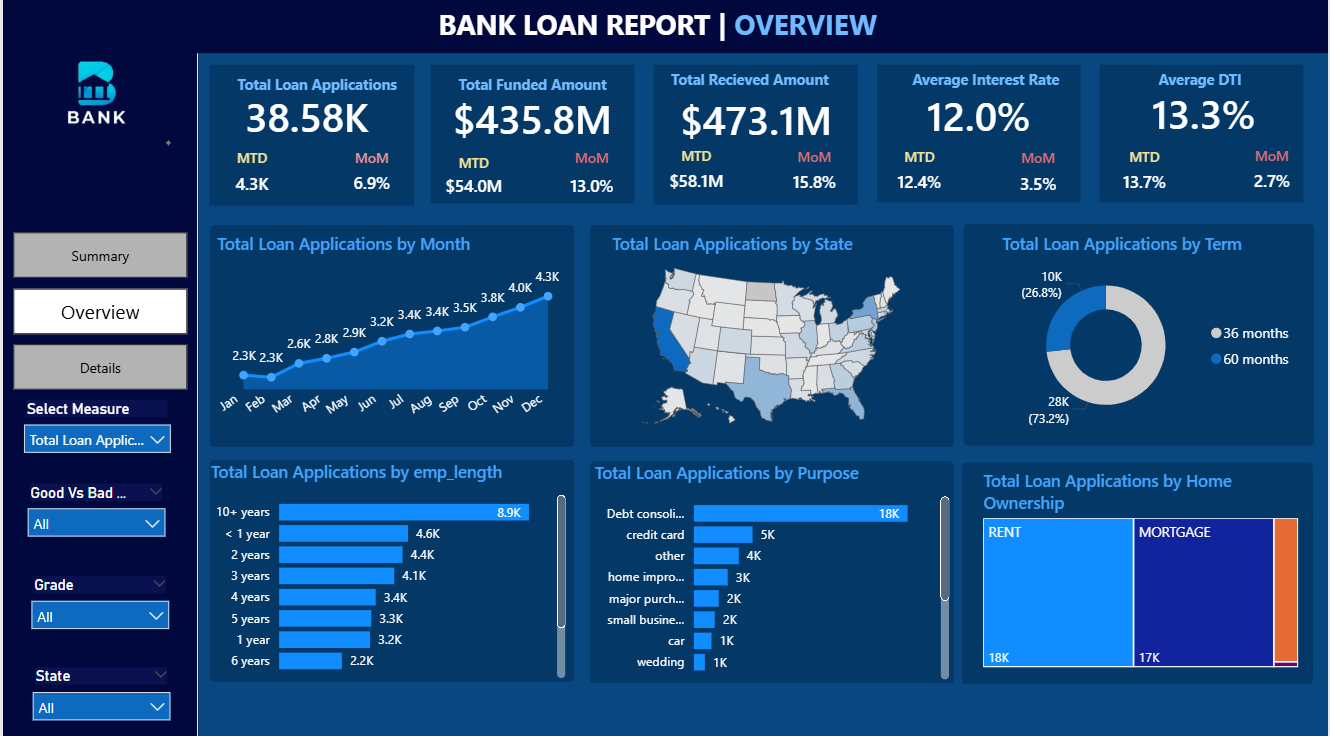

What the dashboard file says about the page in this screenshot:
{"tool":"powerbi","page":{"name":"Overview","canvas":[1280,720],"ordinal":1},"visuals":[{"type":"shape","box":[0,0,189.4,720.2],"z":0},{"type":"shape","box":[126.6,0,1153.4,55.5],"z":1000},{"type":"textbox","box":[415.8,4.1,447.3,46.7],"z":2000},{"type":"shape","box":[200.3,66.4,197.9,136.3],"z":3000},{"type":"card","fields":{"Values":["All Measures.Total Loan Applications"]},"box":[209.4,88.6,168.9,56.7],"z":4000},{"type":"textbox","box":[221.5,71.7,174.9,39.8],"z":5000},{"type":"card","title":"MTD","fields":{"Values":["All Measures.MTD Loan Application"]},"box":[200,147.6,82.3,54.9],"z":6000},{"type":"card","title":"MoM","fields":{"Values":["All Measures.MoM Loan Application"]},"box":[315.6,147.7,82,53.1],"z":7000},{"type":"shape","box":[413.8,66.4,196.6,133.9],"z":8000},{"type":"card","fields":{"Values":["All Measures.Total Funded Amount"]},"box":[415.7,91,191.8,55.5],"z":9000},{"type":"textbox","box":[435,71.7,174.9,39.8],"z":10000},{"type":"card","title":"MoM","fields":{"Values":["All Measures.MoM Funded Amount"]},"box":[527.9,147.7,82,57.9],"z":11000},{"type":"card","title":"MTD","fields":{"Values":["All Measures.MTD Funded Amount"]},"box":[413.3,152.5,83.2,48.3],"z":12000},{"type":"shape","box":[628.3,65.9,197.9,135.1],"z":13000},{"type":"card","fields":{"Values":["All Measures.Total Recieved Amount"]},"box":[631.9,90,191.8,56.7],"z":14000},{"type":"textbox","box":[640.4,65.9,174.9,39.8],"z":15000},{"type":"card","title":"MoM","fields":{"Values":["All Measures.MoM Recieved Amount"]},"box":[742.9,145.5,82,53.1],"z":16000},{"type":"card","title":"MTD","fields":{"Values":["All Measures.MTD Recieved Amount"]},"box":[628.3,144.3,83.2,54.3],"z":17000},{"type":"shape","box":[844.3,65.9,196.6,132.7],"z":18000},{"type":"card","fields":{"Values":["All Measures.Average Interest rate"]},"box":[846.7,86.4,191.8,56.7],"z":19000},{"type":"textbox","box":[873.2,65.9,174.9,39.8],"z":20000},{"type":"card","title":"MoM","fields":{"Values":["All Measures.MoM average interest rate"]},"box":[958.9,146.7,82,54.3],"z":21000},{"type":"card","title":"MTD","fields":{"Values":["All Measures.MTD average Int Rate"]},"box":[844.3,145.5,82,54.3],"z":22000},{"type":"shape","box":[1059.3,66.4,196.6,132.7],"z":23000},{"type":"card","fields":{"Values":["All Measures.Average Dti"]},"box":[1063.8,87.6,191.8,50.7],"z":24000},{"type":"textbox","box":[1110.9,65.9,144.8,39.8],"z":25000},{"type":"card","title":"MoM","fields":{"Values":["All Measures.MoM average Dti"]},"box":[1184.7,145,82,54.3],"z":26000},{"type":"card","title":"MTD","fields":{"Values":["All Measures.MTD average Dti"]},"box":[1061.4,145.5,82,54.3],"z":27000},{"type":"shape","box":[200.3,220.8,352.3,214.7],"z":28000},{"type":"slicer","fields":{"Values":["Bank Loan Data.address_state"]},"box":[19.3,643,153.2,66.4],"z":29000},{"type":"slicer","fields":{"Values":["Bank Loan Data.grade"]},"box":[18.1,555,153.2,66.4],"z":30000},{"type":"slicer","fields":{"Values":["Bank Loan Data.Good Vs Bad Loan"]},"box":[14.5,465.7,153.2,66.4],"z":31000},{"type":"slicer","fields":{"Values":["Select Measure.Select Measure"]},"box":[10.9,384.9,161.7,80.8],"z":32000},{"type":"shape","box":[567,220.8,352.3,214.7],"z":33000},{"type":"shapeMap","fields":{"Value":["All Measures.Total Loan Applications"],"Category":["Bank Loan Data.address_state"]},"box":[583.9,228,317.3,197.9],"z":34000},{"type":"areaChart","fields":{"Y":["All Measures.Total Loan Applications"],"Category":["DateTable.MonthName"]},"box":[202.7,228,340.2,197.9],"z":35000},{"type":"shape","box":[927.8,219.6,339,214.7],"z":36000},{"type":"donutChart","fields":{"Y":["All Measures.Total Loan Applications"],"Category":["Bank Loan Data.term"]},"box":[960.3,228,295.6,196.6],"z":37000},{"type":"shape","box":[200.3,447.6,352.3,214.7],"z":38000},{"type":"barChart","fields":{"Y":["All Measures.Total Loan Applications"],"Category":["Bank Loan Data.emp_length"]},"box":[196.6,447.6,352.3,216],"z":39000},{"type":"shape","box":[567,448.8,352.3,214.7],"z":40000},{"type":"barChart","fields":{"Y":["All Measures.Total Loan Applications"],"Category":["Bank Loan Data.purpose"]},"box":[567,448.8,352.3,216],"z":41000},{"type":"shape","box":[926.5,450,339,214.7],"z":42000},{"type":"treemap","fields":{"Values":["All Measures.Total Loan Applications"],"Group":["Bank Loan Data.home_ownership"]},"box":[942.2,456,313.7,196.6],"z":43000},{"type":"pageNavigator","box":[10.9,228,168.9,153.2],"z":44000},{"type":"image","box":[10.9,14.5,161.7,158],"z":45000}]}

Visuals, with their boxes in screenshot pixels (x1, y1, x2, y2), scaled from the page's 1280x720 canvas onto the 1330x736 screenshot:
shape: {"left": 0, "top": 0, "right": 197, "bottom": 735}
shape: {"left": 132, "top": 0, "right": 1329, "bottom": 57}
textbox: {"left": 432, "top": 4, "right": 897, "bottom": 52}
shape: {"left": 208, "top": 68, "right": 414, "bottom": 207}
card - All Measures.Total Loan Applications: {"left": 218, "top": 91, "right": 393, "bottom": 149}
textbox: {"left": 230, "top": 73, "right": 412, "bottom": 114}
"MTD" card: {"left": 208, "top": 151, "right": 293, "bottom": 207}
"MoM" card: {"left": 328, "top": 151, "right": 413, "bottom": 205}
shape: {"left": 430, "top": 68, "right": 634, "bottom": 205}
card - All Measures.Total Funded Amount: {"left": 432, "top": 93, "right": 631, "bottom": 150}
textbox: {"left": 452, "top": 73, "right": 634, "bottom": 114}
"MoM" card: {"left": 549, "top": 151, "right": 634, "bottom": 210}
"MTD" card: {"left": 429, "top": 156, "right": 516, "bottom": 205}
shape: {"left": 653, "top": 67, "right": 858, "bottom": 205}
card - All Measures.Total Recieved Amount: {"left": 657, "top": 92, "right": 856, "bottom": 150}
textbox: {"left": 665, "top": 67, "right": 847, "bottom": 108}
"MoM" card: {"left": 772, "top": 149, "right": 857, "bottom": 203}
"MTD" card: {"left": 653, "top": 148, "right": 739, "bottom": 203}
shape: {"left": 877, "top": 67, "right": 1082, "bottom": 203}
card - All Measures.Average Interest rate: {"left": 880, "top": 88, "right": 1079, "bottom": 146}
textbox: {"left": 907, "top": 67, "right": 1089, "bottom": 108}
"MoM" card: {"left": 996, "top": 150, "right": 1082, "bottom": 205}
"MTD" card: {"left": 877, "top": 149, "right": 962, "bottom": 204}
shape: {"left": 1101, "top": 68, "right": 1305, "bottom": 204}
card - All Measures.Average Dti: {"left": 1105, "top": 90, "right": 1305, "bottom": 141}
textbox: {"left": 1154, "top": 67, "right": 1305, "bottom": 108}
"MoM" card: {"left": 1231, "top": 148, "right": 1316, "bottom": 204}
"MTD" card: {"left": 1103, "top": 149, "right": 1188, "bottom": 204}
shape: {"left": 208, "top": 226, "right": 574, "bottom": 445}
slicer - Bank Loan Data.address_state: {"left": 20, "top": 657, "right": 179, "bottom": 725}
slicer - Bank Loan Data.grade: {"left": 19, "top": 567, "right": 178, "bottom": 635}
slicer - Bank Loan Data.Good Vs Bad Loan: {"left": 15, "top": 476, "right": 174, "bottom": 544}
slicer - Select Measure.Select Measure: {"left": 11, "top": 393, "right": 179, "bottom": 476}
shape: {"left": 589, "top": 226, "right": 955, "bottom": 445}
shapeMap - All Measures.Total Loan Applications x Bank Loan Data.address_state: {"left": 607, "top": 233, "right": 936, "bottom": 435}
areaChart - All Measures.Total Loan Applications x DateTable.MonthName: {"left": 211, "top": 233, "right": 564, "bottom": 435}
shape: {"left": 964, "top": 224, "right": 1316, "bottom": 444}
donutChart - All Measures.Total Loan Applications x Bank Loan Data.term: {"left": 998, "top": 233, "right": 1305, "bottom": 434}
shape: {"left": 208, "top": 458, "right": 574, "bottom": 677}
barChart - All Measures.Total Loan Applications x Bank Loan Data.emp_length: {"left": 204, "top": 458, "right": 570, "bottom": 678}
shape: {"left": 589, "top": 459, "right": 955, "bottom": 678}
barChart - All Measures.Total Loan Applications x Bank Loan Data.purpose: {"left": 589, "top": 459, "right": 955, "bottom": 680}
shape: {"left": 963, "top": 460, "right": 1315, "bottom": 679}
treemap - All Measures.Total Loan Applications x Bank Loan Data.home_ownership: {"left": 979, "top": 466, "right": 1305, "bottom": 667}
pageNavigator: {"left": 11, "top": 233, "right": 187, "bottom": 390}
image: {"left": 11, "top": 15, "right": 179, "bottom": 176}
